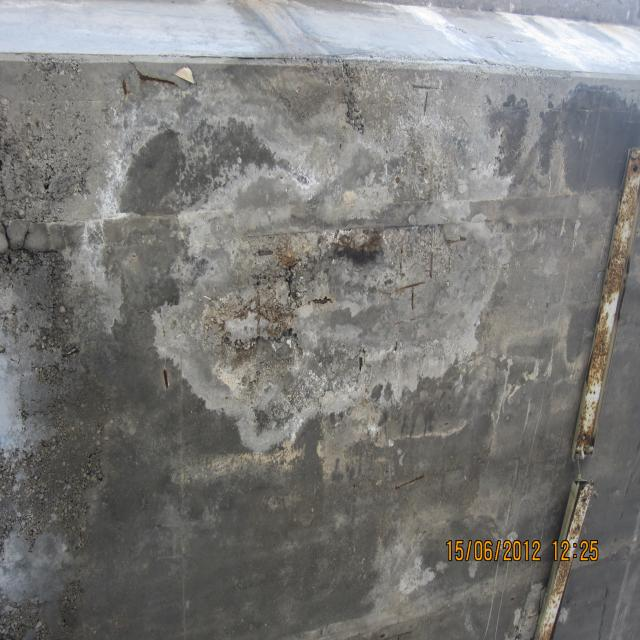corrosion: (567, 145, 640, 471), (537, 477, 595, 640), (390, 228, 448, 313), (117, 70, 180, 106), (157, 362, 172, 393)
